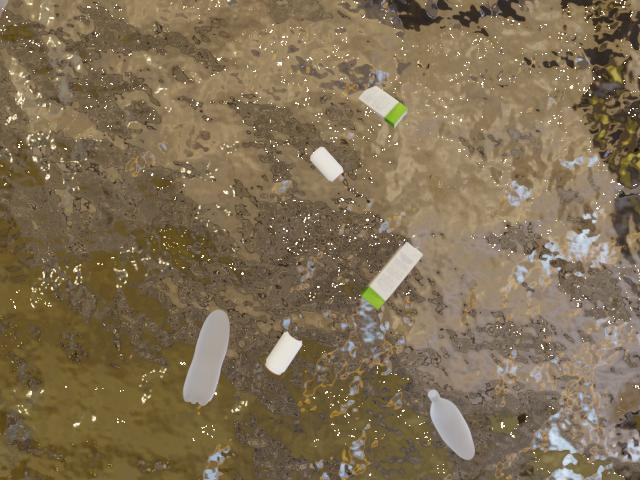Metal: (264, 319, 308, 396), (304, 138, 346, 190)
Plastic: (181, 300, 245, 410), (413, 375, 486, 469)
Trash: (349, 232, 428, 310), (354, 78, 424, 144)
